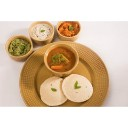idly: (62, 73, 93, 102), (39, 76, 67, 105)
